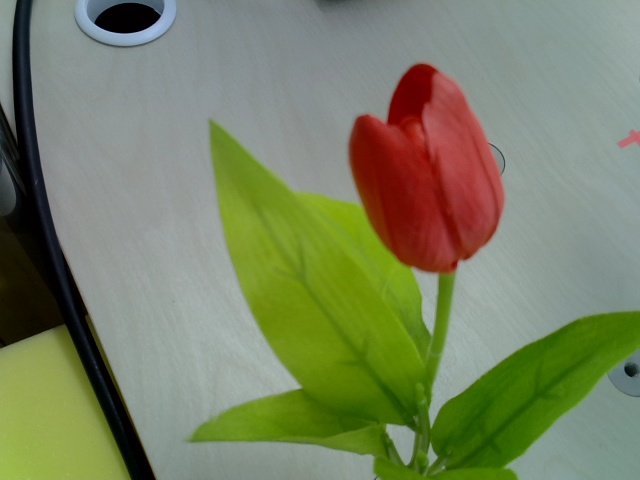튤립: (346, 62, 508, 272)
